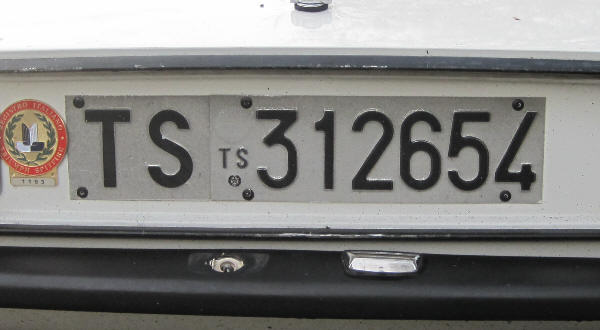license_plate: (64, 93, 547, 204)
